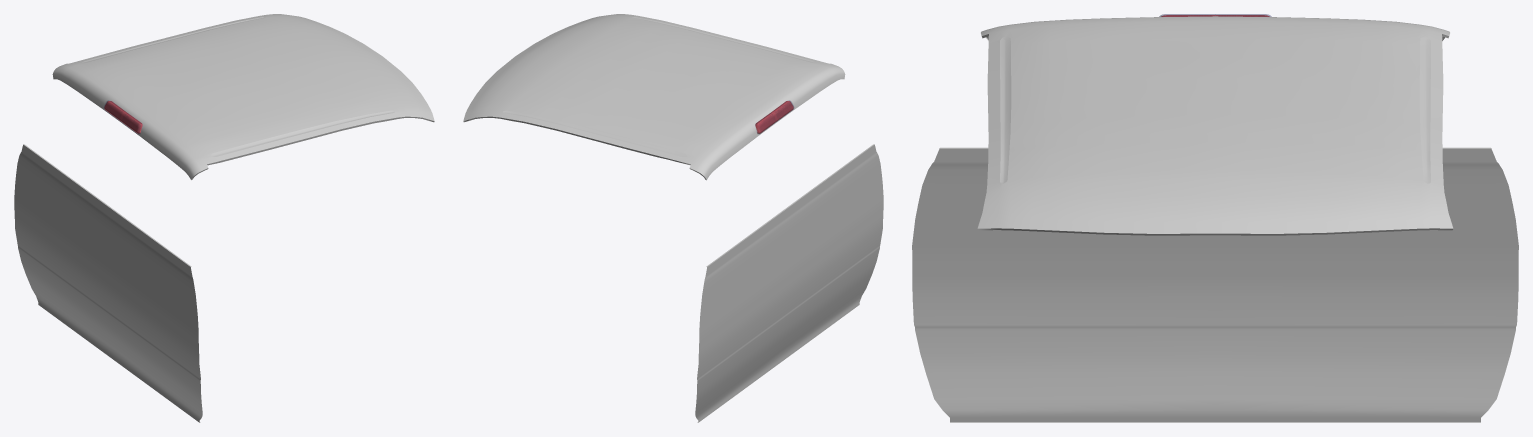
3 views of the same model, side by side, from view 1: azimuth 30°, elevation 25°; view 2: azimuth 150°, elevation 25°; view 3: azimuth 270°, elevation 25° (orthographic). The views are drawn at different scales.
Parts seen in each view (by area): view 1: N826_341B_C_1_DaS_N826_341B_C, N826_341B_C_1_DaS_N826_341B_C_E, N826_341B_C_N826_341B_C_3_DTaSI, N826_341B_C_N826_341B_C_2_N; view 2: N826_341B_C_1_DaS_N826_341B_C, N826_341B_C_1_DaS_N826_341B_C_E, N826_341B_C_N826_341B_C_3_DTaSI, N826_341B_C_N826_341B_C_2_N; view 3: N826_341B_C_1_DaS_N826_341B_C, N826_341B_C_1_DaS_N826_341B_C_E.
Part boxes in pixels (<box>): N826_341B_C_1_DaS_N826_341B_C: <box>14,14,434,422</box>; N826_341B_C_1_DaS_N826_341B_C_E: <box>23,17,434,266</box>; N826_341B_C_N826_341B_C_3_DTaSI: <box>103,100,142,134</box>; N826_341B_C_N826_341B_C_2_N: <box>104,101,142,133</box>; N826_341B_C_1_DaS_N826_341B_C: <box>463,14,883,422</box>; N826_341B_C_1_DaS_N826_341B_C_E: <box>463,17,874,266</box>; N826_341B_C_N826_341B_C_3_DTaSI: <box>755,100,794,134</box>; N826_341B_C_N826_341B_C_2_N: <box>755,101,793,133</box>; N826_341B_C_1_DaS_N826_341B_C: <box>912,16,1518,422</box>; N826_341B_C_1_DaS_N826_341B_C_E: <box>940,34,1490,235</box>.
Bounding box in the file's own units: 148 × 132 × 172.
